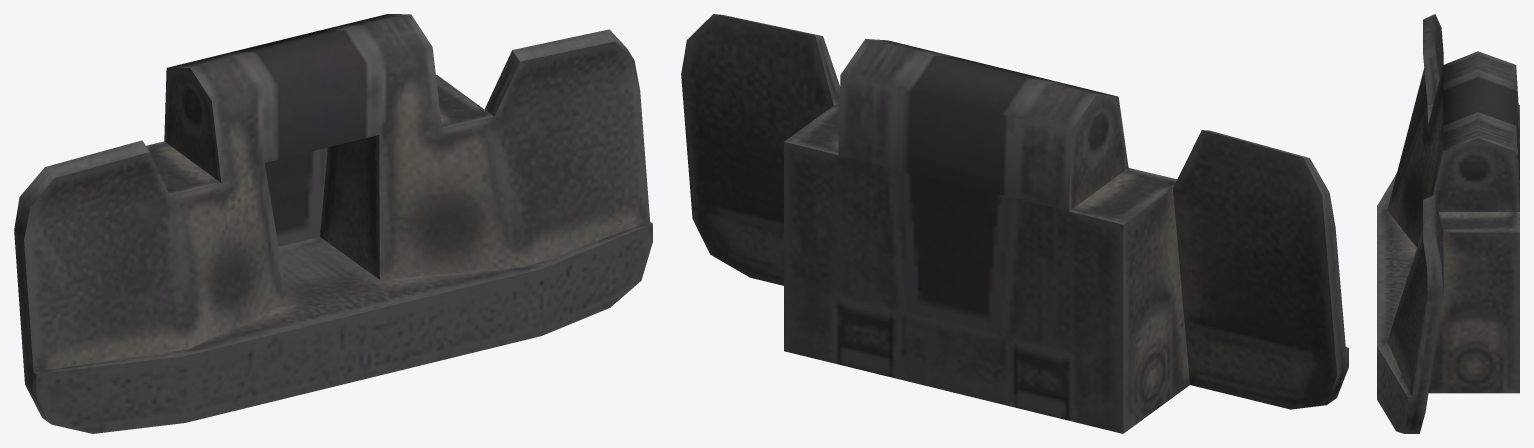
The picture shows the model from 3 angles, left to right: view 1: azimuth 30°, elevation 25°; view 2: azimuth 150°, elevation 25°; view 3: azimuth 270°, elevation 25°; orthographic projection. The views are drawn at different scales.
Visible parts, largest first — view 1: set_0_group_0; view 2: set_0_group_0; view 3: set_0_group_0.
Boxes of the visible parts, bbox=[...] form: set_0_group_0: bbox=[14, 14, 652, 433]; set_0_group_0: bbox=[681, 14, 1348, 433]; set_0_group_0: bbox=[1377, 14, 1519, 433].
Bounding box in the file's own units: 0.35 × 0.1586 × 0.0872.
Materials: 1 (1 with a texture image).
